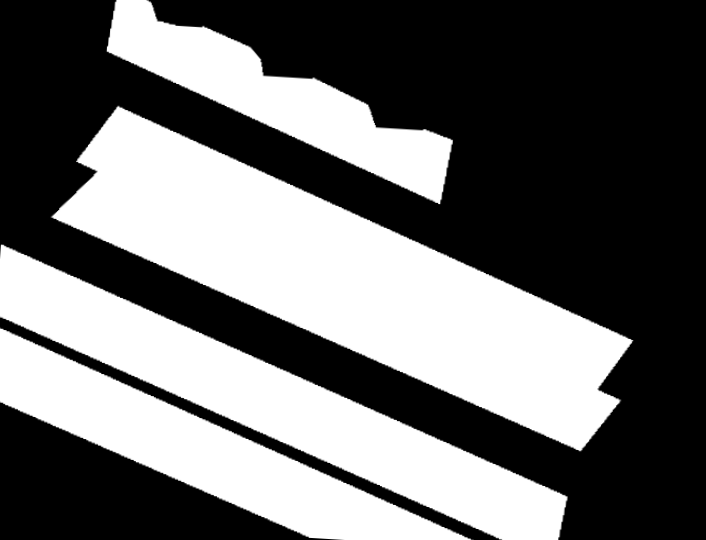parkingspot: (52, 106, 633, 451), (0, 245, 568, 540), (0, 328, 471, 540), (107, 0, 453, 204)
